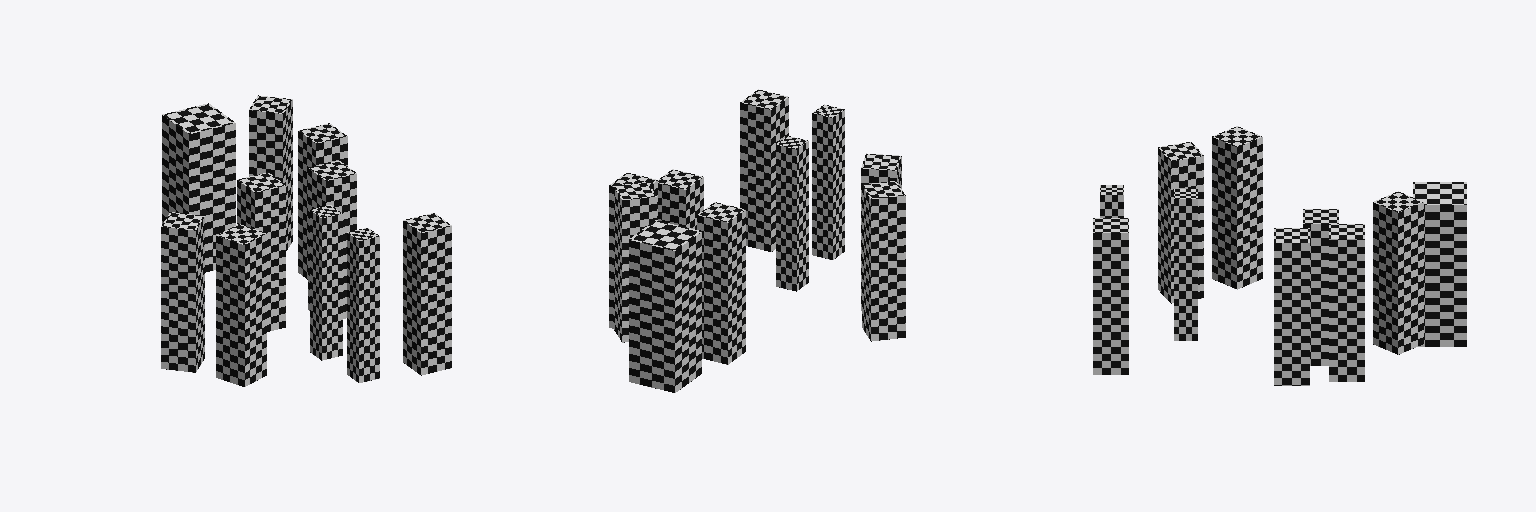
The picture shows the model from 3 angles: view 1: azimuth 30°, elevation 25°; view 2: azimuth 150°, elevation 25°; view 3: azimuth 270°, elevation 25°; orthographic projection.
Visible parts, largest first — view 1: Cube.010_Cube.015, Cube.003_Cube.015, Cube_Cube.015, Cube.004_Cube.015, Cube.001_Cube.015, Cube.002_Cube.015, Cube.005_Cube.015, Cube.009_Cube.015, Cube.007_Cube.015, Cube.006_Cube.015; view 2: Cube.010_Cube.015, Cube.005_Cube.015, Cube.004_Cube.015, Cube_Cube.015, Cube.002_Cube.015, Cube.001_Cube.015, Cube.009_Cube.015, Cube.007_Cube.015, Cube.003_Cube.015, Cube.006_Cube.015; view 3: Cube.004_Cube.015, Cube.009_Cube.015, Cube.010_Cube.015, Cube.006_Cube.015, Cube.007_Cube.015, Cube_Cube.015, Cube.003_Cube.015, Cube.002_Cube.015, Cube.005_Cube.015, Cube.001_Cube.015.
Part boxes in pixels (bbox=[...]): Cube.010_Cube.015: bbox=[162, 103, 235, 272]; Cube.003_Cube.015: bbox=[216, 224, 266, 386]; Cube_Cube.015: bbox=[403, 213, 451, 375]; Cube.004_Cube.015: bbox=[161, 212, 204, 372]; Cube.001_Cube.015: bbox=[347, 228, 379, 382]; Cube.002_Cube.015: bbox=[310, 205, 342, 360]; Cube.005_Cube.015: bbox=[237, 172, 285, 331]; Cube.009_Cube.015: bbox=[249, 95, 292, 250]; Cube.007_Cube.015: bbox=[308, 160, 356, 318]; Cube.006_Cube.015: bbox=[298, 123, 347, 279]; Cube.010_Cube.015: bbox=[629, 220, 701, 392]; Cube.005_Cube.015: bbox=[697, 202, 745, 364]; Cube.004_Cube.015: bbox=[862, 181, 905, 341]; Cube_Cube.015: bbox=[740, 89, 788, 251]; Cube.002_Cube.015: bbox=[776, 136, 808, 291]; Cube.001_Cube.015: bbox=[812, 104, 844, 259]; Cube.009_Cube.015: bbox=[613, 182, 656, 342]; Cube.007_Cube.015: bbox=[658, 169, 703, 229]; Cube.003_Cube.015: bbox=[861, 153, 901, 310]; Cube.006_Cube.015: bbox=[609, 173, 657, 328]; Cube.004_Cube.015: bbox=[1212, 126, 1262, 289]; Cube.009_Cube.015: bbox=[1373, 191, 1423, 354]; Cube.010_Cube.015: bbox=[1413, 182, 1466, 346]; Cube.006_Cube.015: bbox=[1329, 224, 1364, 381]; Cube.007_Cube.015: bbox=[1274, 228, 1309, 385]; Cube_Cube.015: bbox=[1093, 218, 1128, 374]; Cube.003_Cube.015: bbox=[1158, 142, 1203, 303]; Cube.002_Cube.015: bbox=[1174, 189, 1197, 340]; Cube.005_Cube.015: bbox=[1303, 209, 1338, 365]; Cube.001_Cube.015: bbox=[1100, 185, 1123, 217].
Bounding box in the file's own units: 29.09 × 21.52 × 40.41.
Materials: 1 (1 with a texture image).